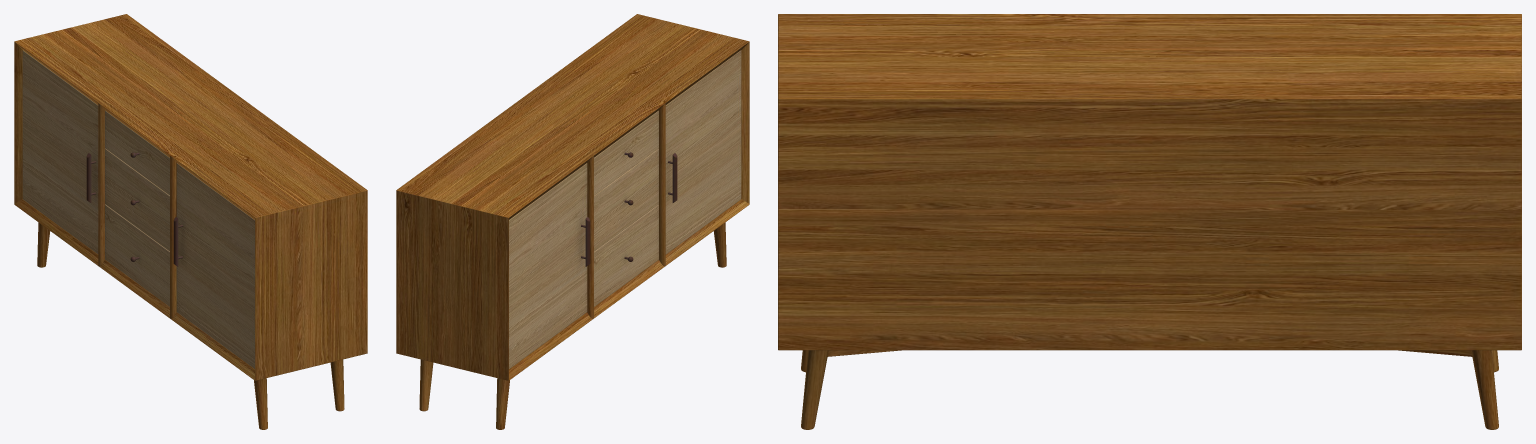
File: dresser2.fbx
3 views of the same model, side by side, from view 1: azimuth 30°, elevation 25°; view 2: azimuth 150°, elevation 25°; view 3: azimuth 270°, elevation 25° (orthographic). The views are drawn at different scales.
Parts seen in each view (by area): view 1: SIDE_BOARD; view 2: SIDE_BOARD; view 3: SIDE_BOARD.
Part boxes in pixels (box(x1,y1,x2,y2)): SIDE_BOARD: box(14, 14, 367, 429); SIDE_BOARD: box(396, 14, 749, 429); SIDE_BOARD: box(778, 14, 1521, 429).
Bounding box in the file's own units: 39.85 × 72.33 × 142.
Materials: 1 (1 with a texture image).
